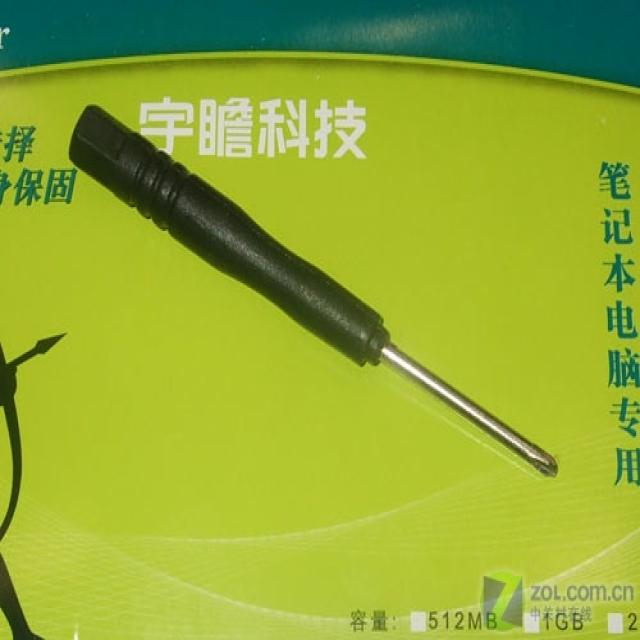screw driver: (49, 71, 576, 498)
